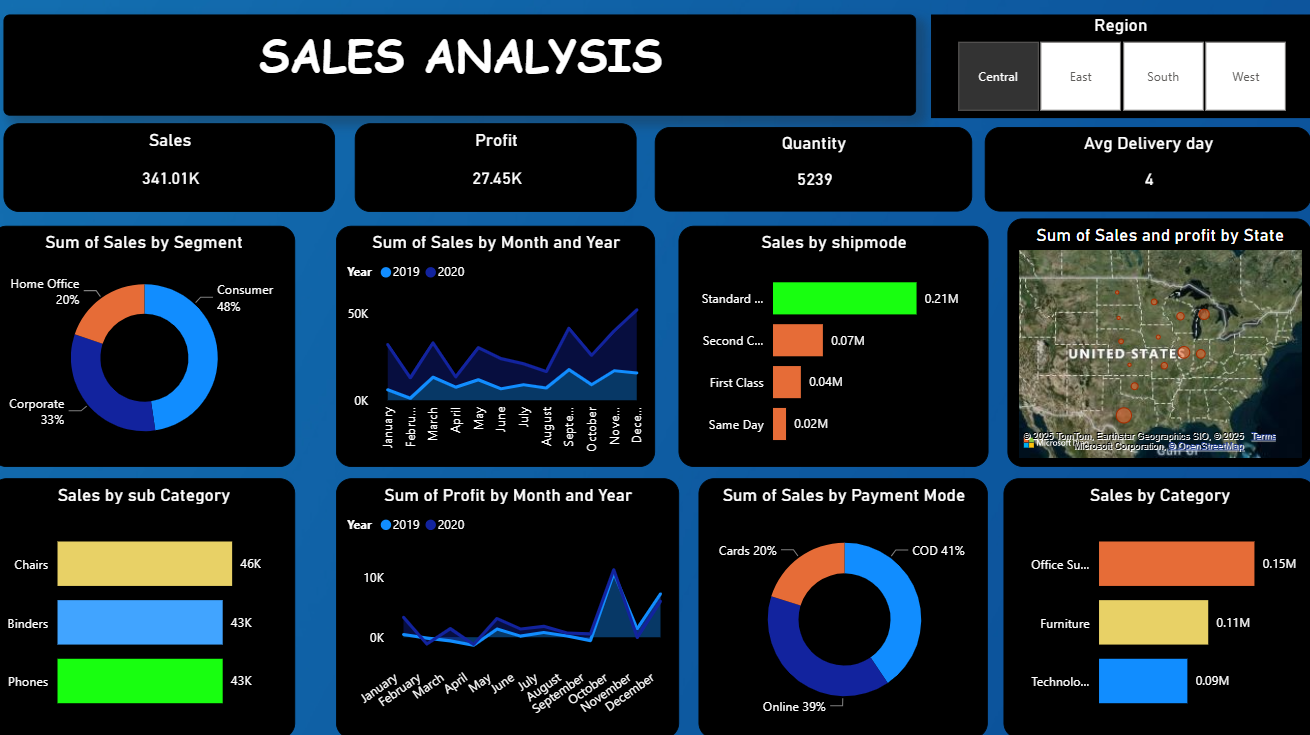

This screenshot's page, from the dashboard's own definition file:
{"tool":"powerbi","page":{"name":"Sales Analysis","canvas":[1280,720],"ordinal":0},"visuals":[{"type":"barChart","title":" Sales by Category","fields":{"Category":["SuperStore_Sales_Dataset.Category"],"Y":["Sum(SuperStore_Sales_Dataset.Sales)"]},"box":[977.1,469.9,300.8,250.9],"z":0},{"type":"barChart","title":" Sales by sub Category","fields":{"Y":["Sum(SuperStore_Sales_Dataset.Sales)"],"Category":["SuperStore_Sales_Dataset.Sub-Category"]},"box":[0,469.9,293.7,250.9],"z":1000},{"type":"barChart","title":"Sales by shipmode","fields":{"Y":["Sum(SuperStore_Sales_Dataset.Sales)"],"Category":["SuperStore_Sales_Dataset.Ship Mode"]},"box":[663.9,226,299,233.2],"z":2000},{"type":"stackedAreaChart","fields":{"Category":["SuperStore_Sales_Dataset.Order Date.Variation.Date Hierarchy.Month","SuperStore_Sales_Dataset.Order Date.Variation.Date Hierarchy.Day"],"Y":["Sum(SuperStore_Sales_Dataset.Sales)"],"Series":["SuperStore_Sales_Dataset.Order Date.Variation.Date Hierarchy.Year"]},"box":[332.8,226,307.9,233.2],"z":3000},{"type":"stackedAreaChart","fields":{"Category":["SuperStore_Sales_Dataset.Order Date.Variation.Date Hierarchy.Month","SuperStore_Sales_Dataset.Order Date.Variation.Date Hierarchy.Day"],"Series":["SuperStore_Sales_Dataset.Order Date.Variation.Date Hierarchy.Year"],"Y":["Sum(SuperStore_Sales_Dataset.Profit)"]},"box":[332.8,469.9,331,250.9],"z":4000},{"type":"map","title":"Sum of Sales and profit by State","fields":{"Category":["SuperStore_Sales_Dataset.State"],"Size":["Sum(SuperStore_Sales_Dataset.Sales)"]},"box":[980.7,218.9,293.7,240.3],"z":4001},{"type":"donutChart","fields":{"Category":["SuperStore_Sales_Dataset.Segment"],"Y":["Sum(SuperStore_Sales_Dataset.Sales)"]},"box":[0,226,293.7,233.2],"z":4002},{"type":"donutChart","fields":{"Y":["Sum(SuperStore_Sales_Dataset.Sales)"],"Category":["SuperStore_Sales_Dataset.Payment Mode"]},"box":[683.4,469.9,279.4,250.9],"z":4003},{"type":"slicer","title":"Region","fields":{"Values":["SuperStore_Sales_Dataset.Region"]},"box":[907.7,21.4,366.6,99.7],"z":4004},{"type":"textbox","box":[12.5,21.4,881,97.9],"z":4005},{"type":"card","title":"Sales","fields":{"Values":["Sum(SuperStore_Sales_Dataset.Sales)"]},"box":[12.5,126.4,320.4,85.4],"z":4006},{"type":"card","title":"Profit","fields":{"Values":["Sum(SuperStore_Sales_Dataset.Profit)"]},"box":[350.6,126.4,272.3,85.4],"z":4007},{"type":"card","title":"Quantity","fields":{"Values":["Sum(SuperStore_Sales_Dataset.Quantity)"]},"box":[640.7,129.9,306.1,81.9],"z":4008},{"type":"card","title":"Avg Delivery day","fields":{"Values":["Avg(SuperStore_Sales_Dataset.avg_delivery)"]},"box":[959.3,129.9,315,81.9],"z":4009}]}

Visuals, with their boxes in screenshot pixels (x1, y1, x2, y2), scaled from the page's 1280x720 canvas onto the 1310x735 screenshot:
" Sales by Category" barChart: locate(1000, 480, 1308, 734)
" Sales by sub Category" barChart: locate(0, 480, 301, 734)
"Sales by shipmode" barChart: locate(679, 231, 985, 469)
stackedAreaChart - SuperStore_Sales_Dataset.Order Date.Variation.Date Hierarchy.Month x SuperStore_Sales_Dataset.Order Date.Variation.Date Hierarchy.Day: locate(341, 231, 656, 469)
stackedAreaChart - SuperStore_Sales_Dataset.Order Date.Variation.Date Hierarchy.Month x SuperStore_Sales_Dataset.Order Date.Variation.Date Hierarchy.Day: locate(341, 480, 679, 734)
"Sum of Sales and profit by State" map: locate(1004, 223, 1304, 469)
donutChart - SuperStore_Sales_Dataset.Segment x Sum(SuperStore_Sales_Dataset.Sales): locate(0, 231, 301, 469)
donutChart - Sum(SuperStore_Sales_Dataset.Sales) x SuperStore_Sales_Dataset.Payment Mode: locate(699, 480, 985, 734)
"Region" slicer: locate(929, 22, 1304, 124)
textbox: locate(13, 22, 914, 122)
"Sales" card: locate(13, 129, 341, 216)
"Profit" card: locate(359, 129, 637, 216)
"Quantity" card: locate(656, 133, 969, 216)
"Avg Delivery day" card: locate(982, 133, 1304, 216)
